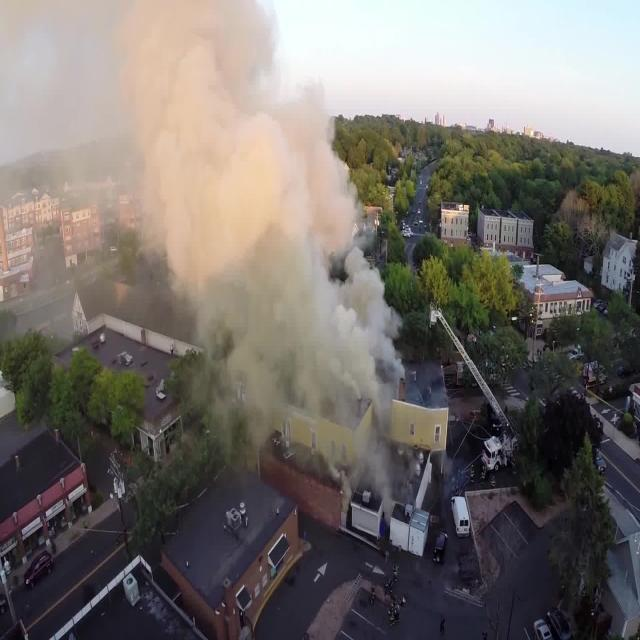Smoke: (0, 0, 408, 547)
